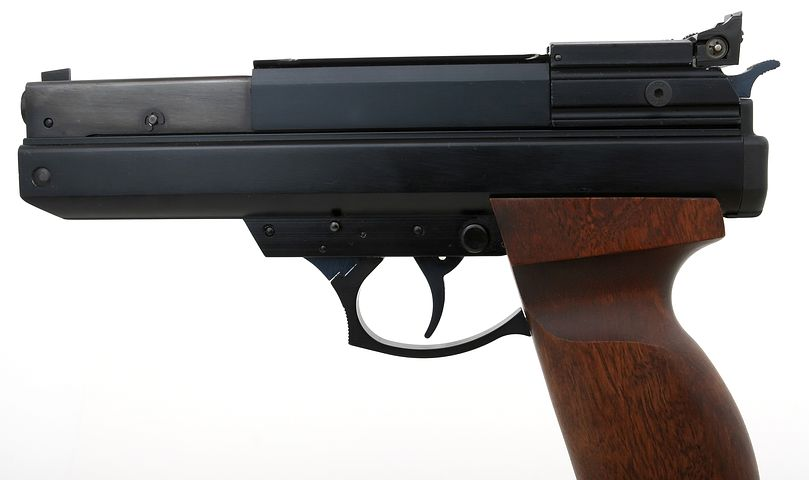gun: (13, 14, 785, 474)
